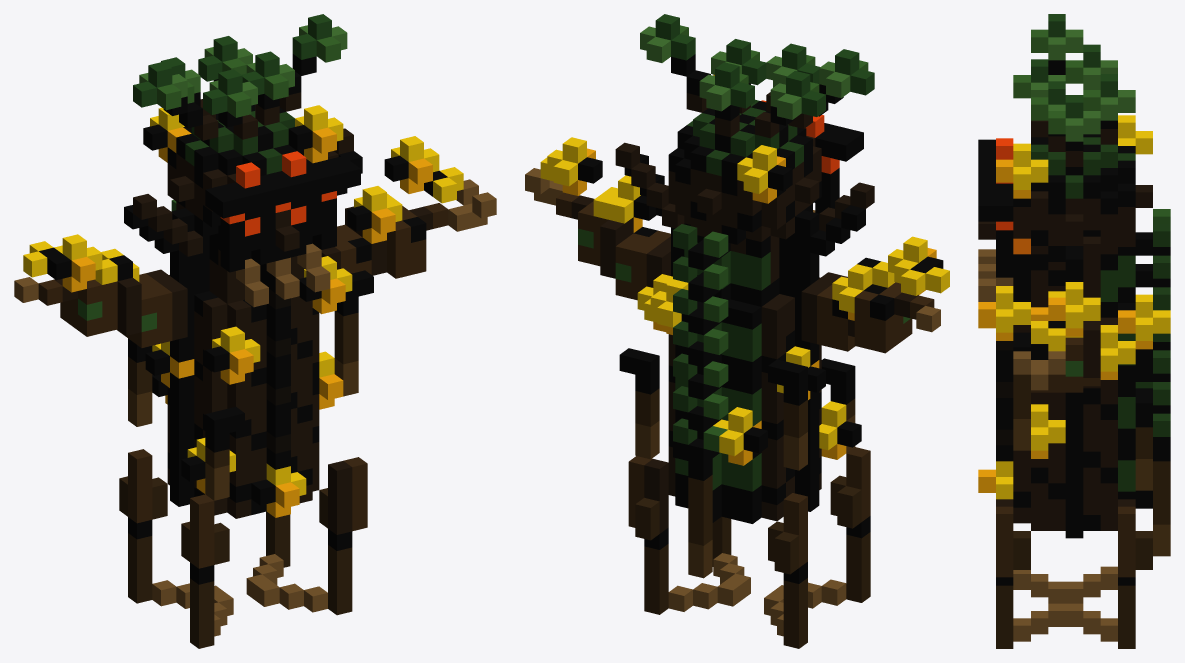
The model's file is Alcaparro_enano_Sara_Viviana_Rojas_Gómez_fase_4.obj.
3 views of the same model, side by side, from view 1: azimuth 30°, elevation 25°; view 2: azimuth 150°, elevation 25°; view 3: azimuth 270°, elevation 25° (orthographic). The views are drawn at different scales.
Visible parts, largest first — view 1: Alcaparro_enano_Sara_Viviana_Rojas_Gómez_fase_4; view 2: Alcaparro_enano_Sara_Viviana_Rojas_Gómez_fase_4; view 3: Alcaparro_enano_Sara_Viviana_Rojas_Gómez_fase_4.
Boxes of the visible parts, x1,y1,x2,y2 form: Alcaparro_enano_Sara_Viviana_Rojas_Gómez_fase_4: (14, 14, 496, 648); Alcaparro_enano_Sara_Viviana_Rojas_Gómez_fase_4: (525, 14, 949, 648); Alcaparro_enano_Sara_Viviana_Rojas_Gómez_fase_4: (978, 14, 1170, 648).
Bounding box in the file's own units: 28 × 35 × 11.
